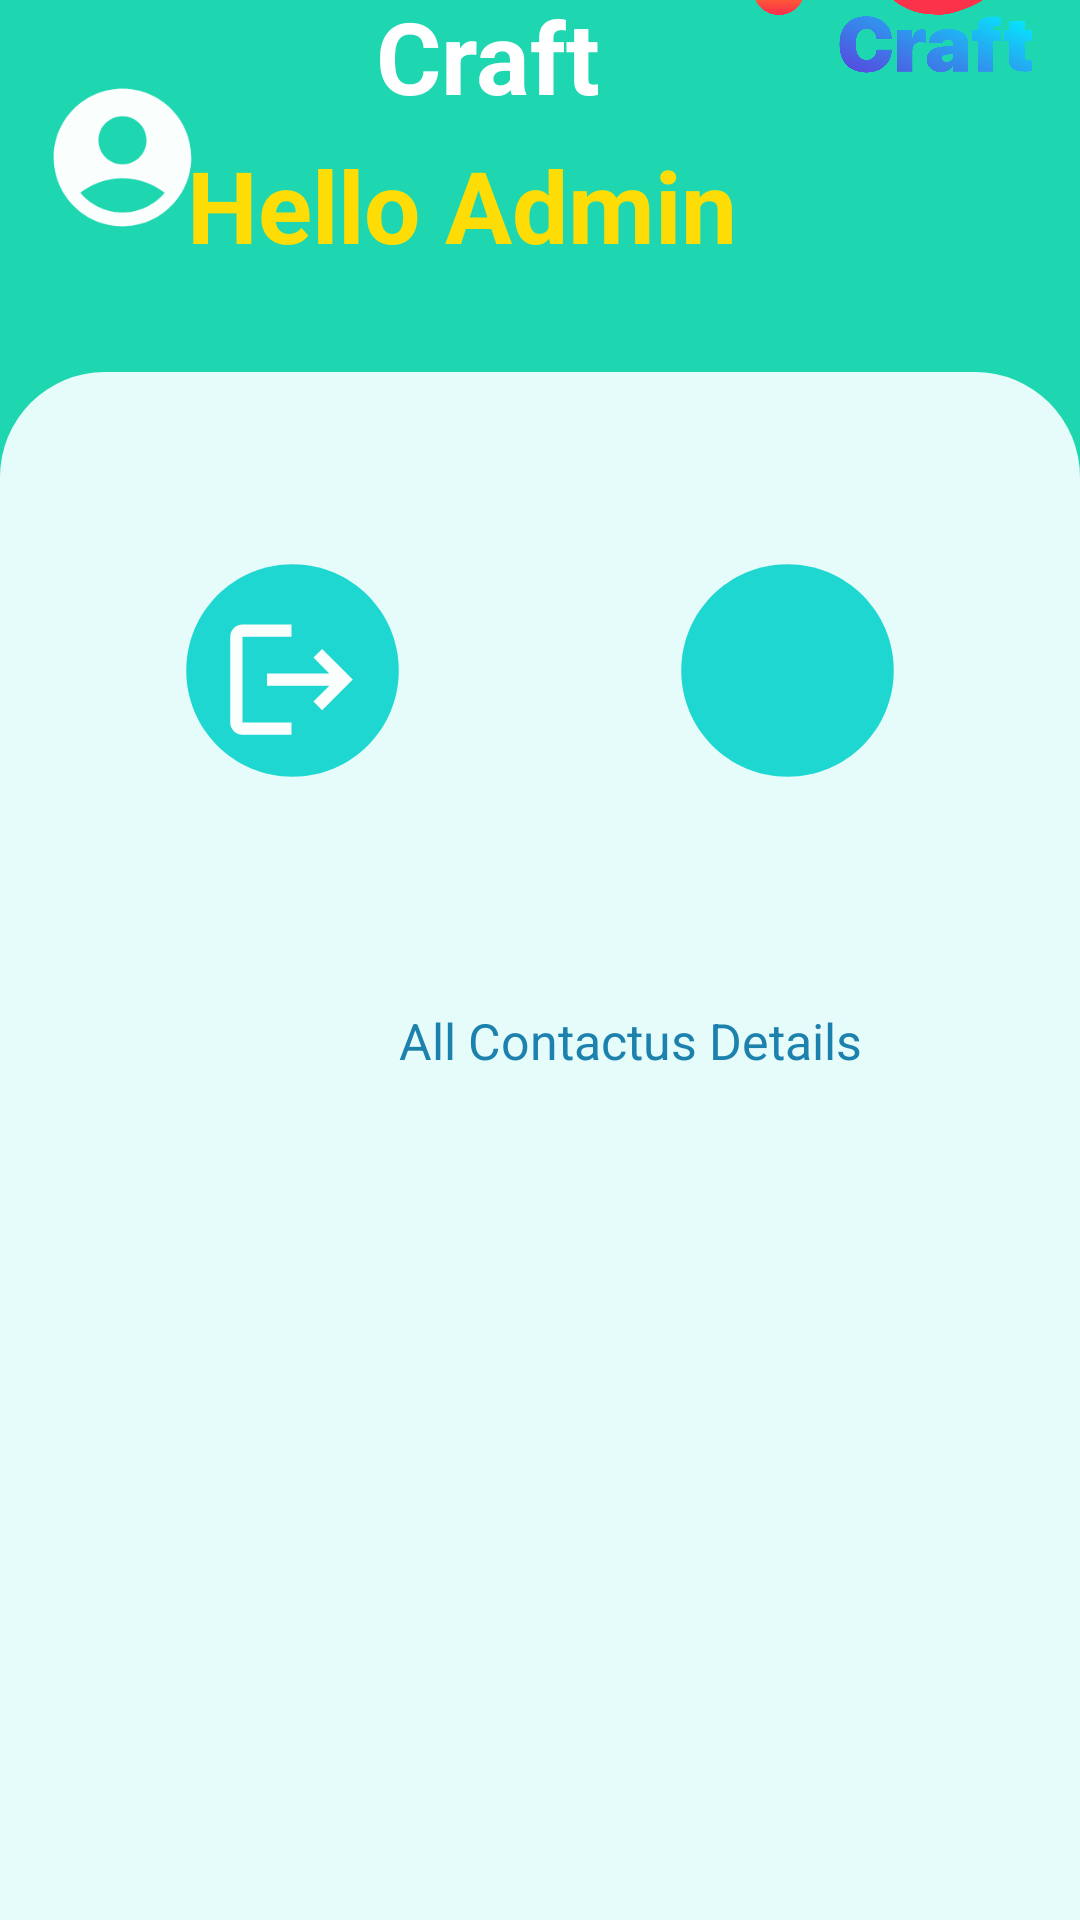

Icon bounding boxes for this 1080px×1920px phone screenshot, format bbox=(x1, y1, x2, y2):
user profile: bbox=(53, 88, 192, 227)
